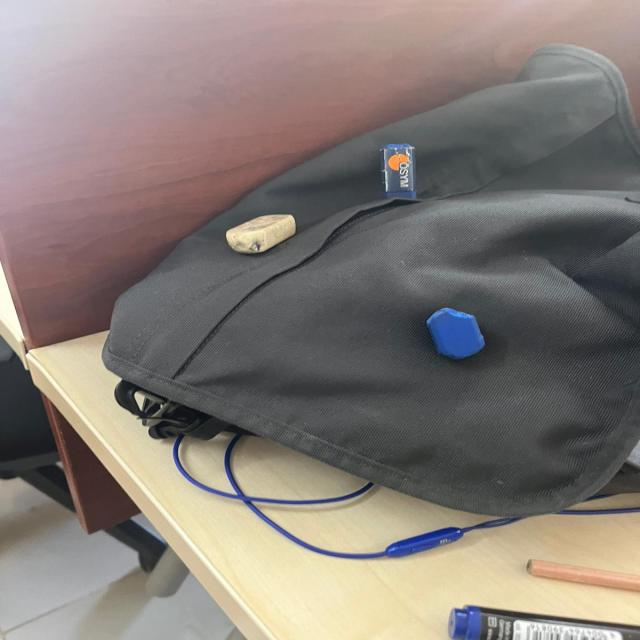eraser: (216, 205, 303, 261), (421, 302, 489, 363), (374, 134, 434, 202)
pencil: (440, 592, 640, 640), (510, 542, 640, 598)
